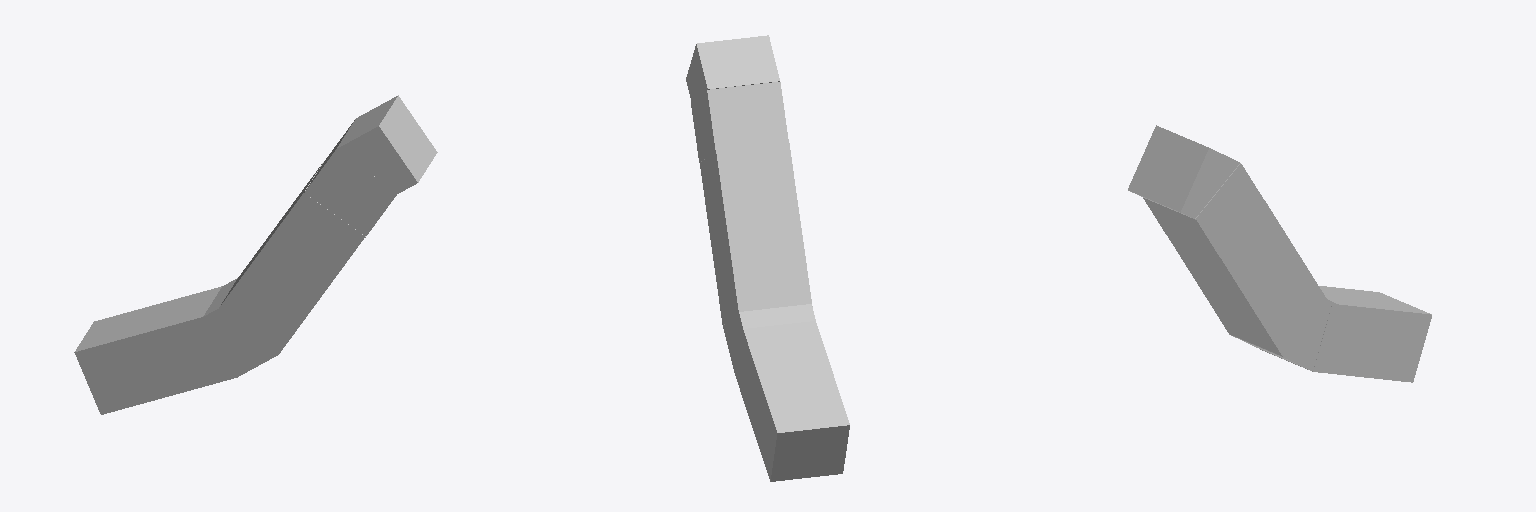
The model's file is thick_diagonal_oak_branch_67_45_stem.obj.
3 renders of one model, left to right at view 1: azimuth 30°, elevation 25°; view 2: azimuth 150°, elevation 25°; view 3: azimuth 270°, elevation 25°, orthographic.
Parts seen in each view (by area): view 1: halfbeam.003, halfbeam.000, halfbeam.002, halfbeam, halfbeam.001; view 2: halfbeam.000, halfbeam.003, halfbeam, halfbeam.002, halfbeam.001; view 3: halfbeam.000, halfbeam.003, halfbeam.002, halfbeam, halfbeam.001.
Part boxes in pixels (bbox=[...]): halfbeam.003: bbox=[74, 286, 237, 414]; halfbeam.000: bbox=[217, 162, 365, 353]; halfbeam.002: bbox=[337, 95, 437, 193]; halfbeam: bbox=[304, 120, 397, 237]; halfbeam.001: bbox=[198, 278, 278, 376]; halfbeam.000: bbox=[700, 142, 812, 324]; halfbeam.003: bbox=[734, 321, 849, 481]; halfbeam: bbox=[691, 82, 788, 162]; halfbeam.002: bbox=[686, 35, 779, 99]; halfbeam.001: bbox=[723, 304, 815, 368]; halfbeam.000: bbox=[1167, 201, 1327, 356]; halfbeam.003: bbox=[1260, 286, 1431, 382]; halfbeam.002: bbox=[1128, 125, 1239, 219]; halfbeam: bbox=[1143, 163, 1264, 256]; halfbeam.001: bbox=[1229, 299, 1335, 370].
Size of the model in its own units: 1.5 by 1.75 by 1.51.